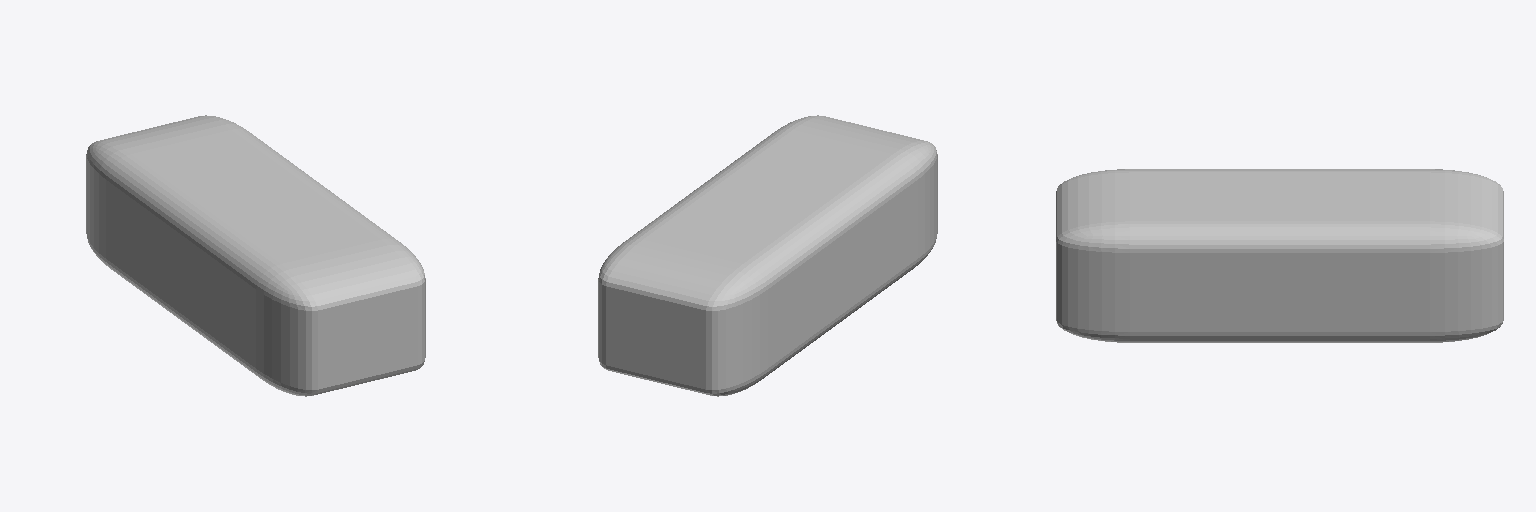
Rendered from leg.obj.
3 renders of one model, left to right at view 1: azimuth 30°, elevation 25°; view 2: azimuth 150°, elevation 25°; view 3: azimuth 270°, elevation 25°, orthographic.
Visible parts, largest first — view 1: leg_Cube.007; view 2: leg_Cube.007; view 3: leg_Cube.007.
Boxes of the visible parts, box(x1,y1,x2,y2) form: leg_Cube.007: box(86, 115, 425, 396); leg_Cube.007: box(598, 115, 937, 396); leg_Cube.007: box(1056, 169, 1503, 342).
Bounding box in the file's own units: 0.1805 × 0.1363 × 0.4685.